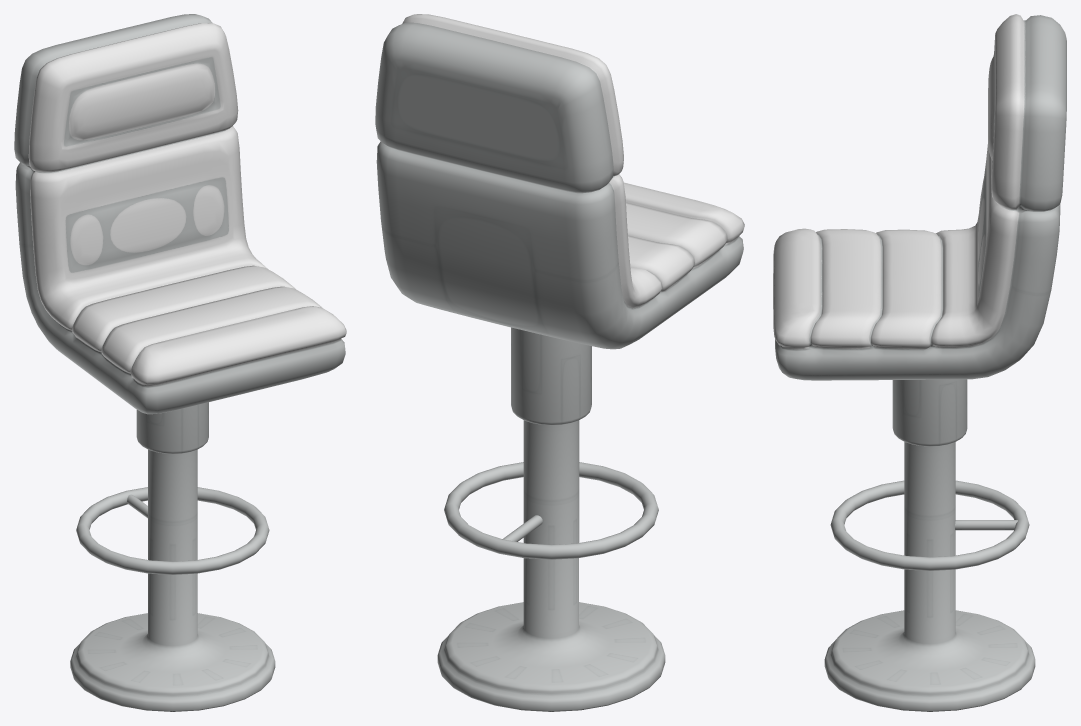
The model's file is BarChair07.FBX.
The picture shows the model from 3 angles, left to right: view 1: azimuth 30°, elevation 25°; view 2: azimuth 150°, elevation 25°; view 3: azimuth 270°, elevation 25°; orthographic projection. The views are drawn at different scales.
Visible parts, largest first — view 1: BarChair07; view 2: BarChair07; view 3: BarChair07.
Boxes of the visible parts, <box> form: BarChair07: <box>14,14,346,711</box>; BarChair07: <box>375,14,744,711</box>; BarChair07: <box>773,14,1066,711</box>.
Size of what is drawn, in the model's own units: 0.4524 by 1.25 by 0.5399.
